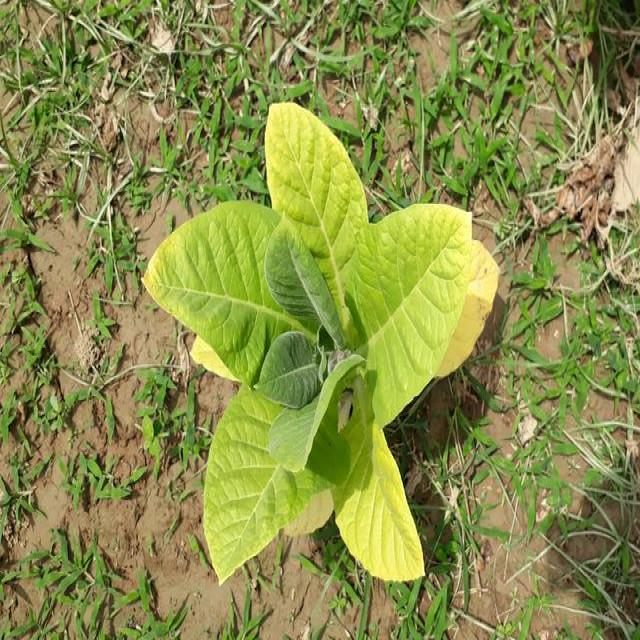crop: (136, 99, 486, 583)
